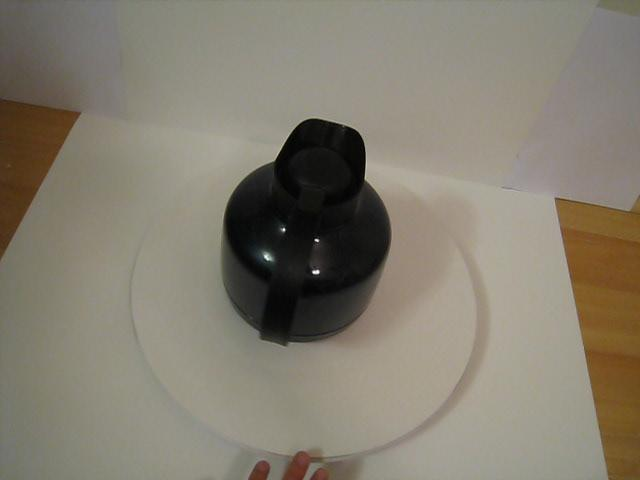pitcher: (213, 109, 399, 367)
